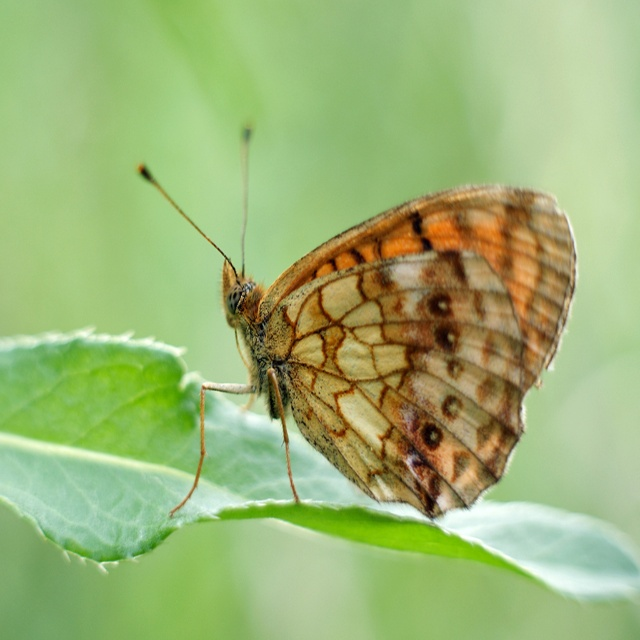Butterfly: (140, 122, 577, 520)
